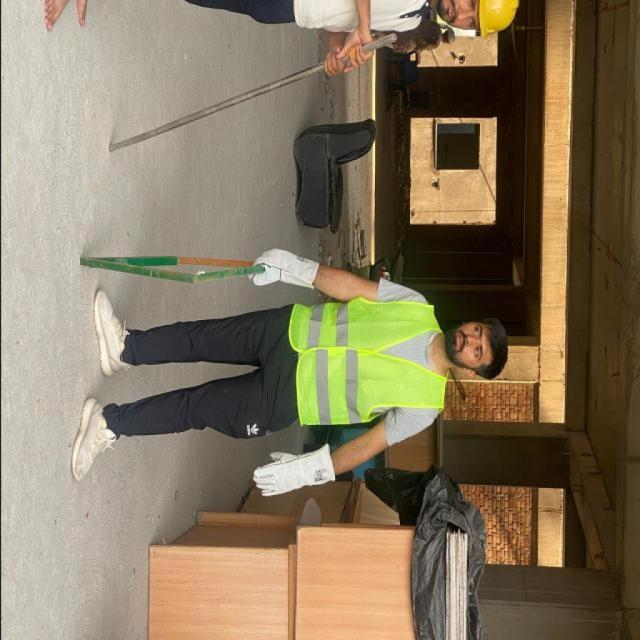Gloves-Detection: (247, 447, 330, 498), (249, 241, 317, 296)
